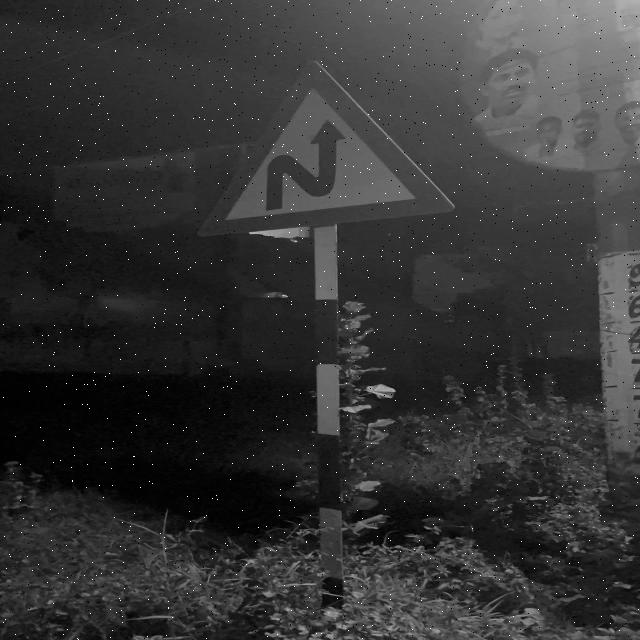Doublecurve_First to right: (194, 58, 450, 238)
